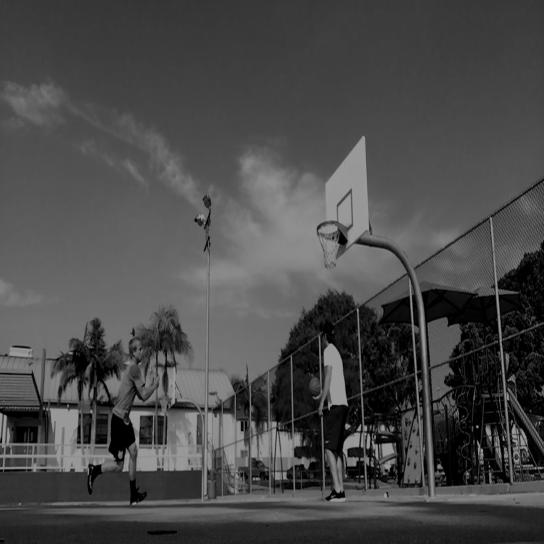basketball-hoop: (316, 218, 342, 272)
